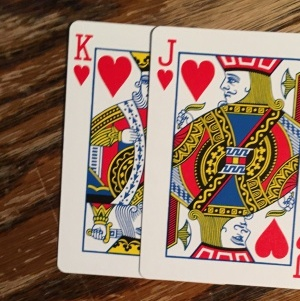card: (57, 21, 152, 280)
